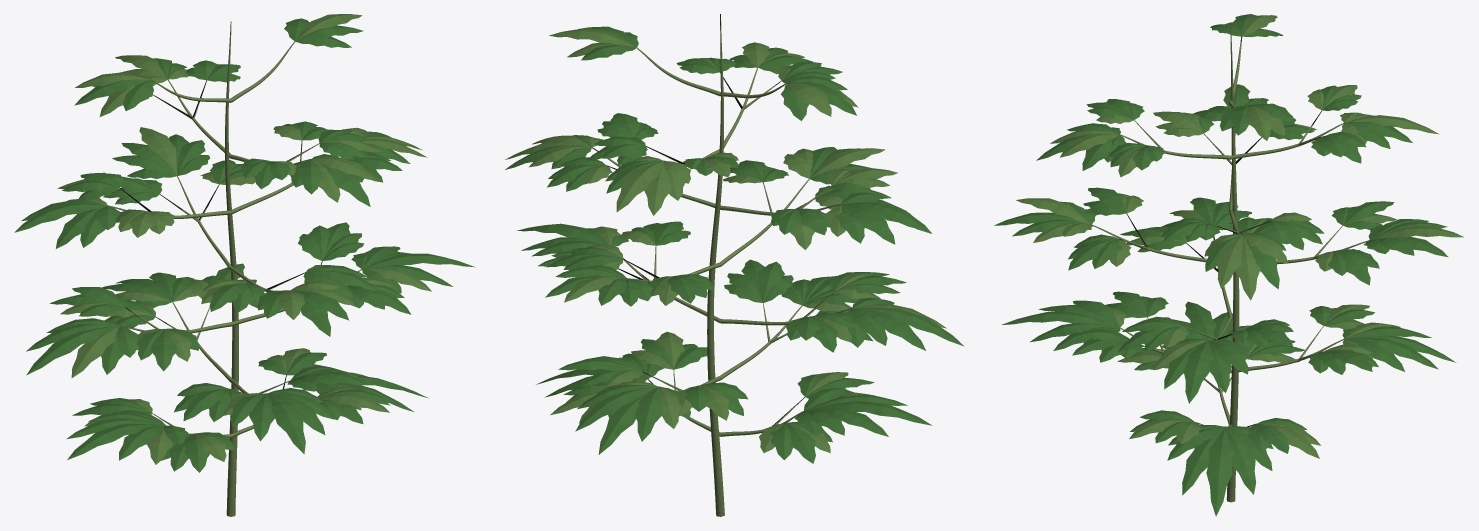
Rendered from roslina_2.glb.
3 renders of one model, left to right at view 1: azimuth 30°, elevation 25°; view 2: azimuth 150°, elevation 25°; view 3: azimuth 270°, elevation 25°, orthographic. The views are drawn at different scales.
Parts seen in each view (by area): view 1: Roslina; view 2: Roslina; view 3: Roslina.
Part boxes in pixels (left/top/right/bottom): Roslina: left=14, top=14, right=474, bottom=516; Roslina: left=505, top=14, right=964, bottom=516; Roslina: left=994, top=14, right=1463, bottom=516.
Size of the model in its own units: 0.9455 by 1 by 0.9063.
Materials: 1 (1 with a texture image).
